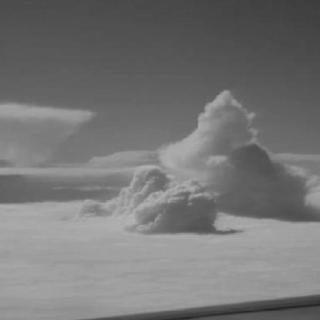Cumulonimbus: (0, 2, 320, 318)
